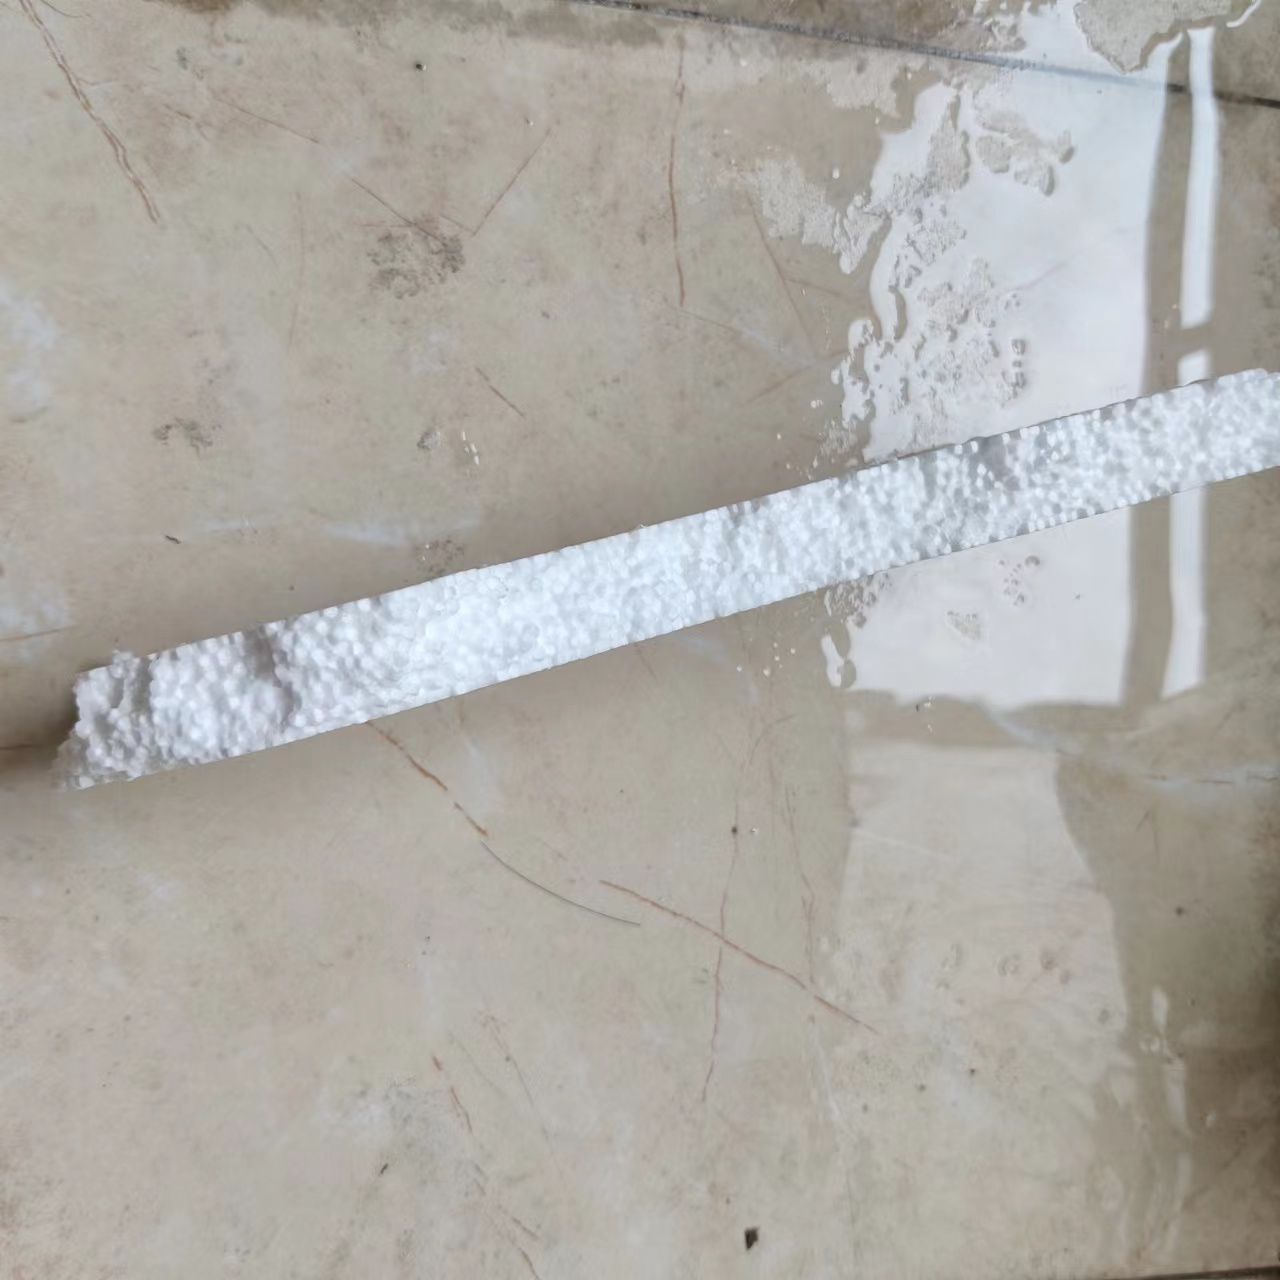5/可回收垃圾/泡沫: (50, 366, 1280, 799)
